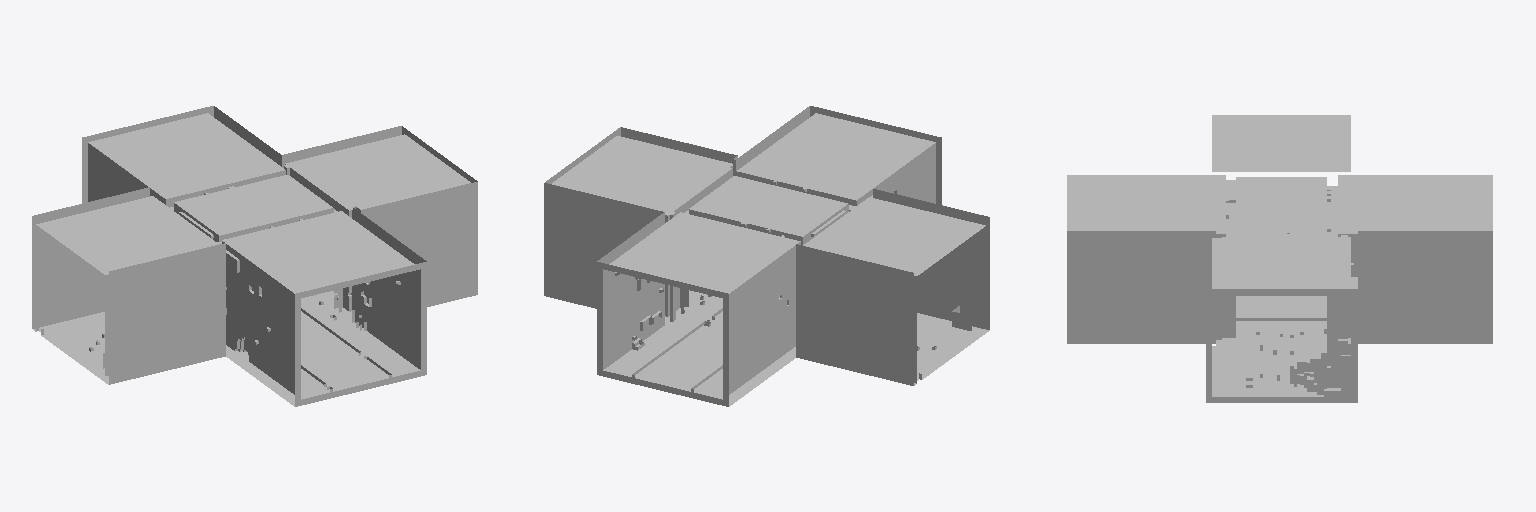
The model's file is Lvl2 Rozv.obj.
The picture shows the model from 3 angles: view 1: azimuth 30°, elevation 25°; view 2: azimuth 150°, elevation 25°; view 3: azimuth 270°, elevation 25°; orthographic projection.
Parts seen in each view (by area): view 1: Lvl2 Rozv; view 2: Lvl2 Rozv; view 3: Lvl2 Rozv.
Boxes of the visible parts, x1,y1,x2,y2 form: Lvl2 Rozv: [32, 106, 477, 406]; Lvl2 Rozv: [544, 106, 989, 406]; Lvl2 Rozv: [1067, 115, 1492, 402].
Size of the model in its own units: 126 by 37 by 126.